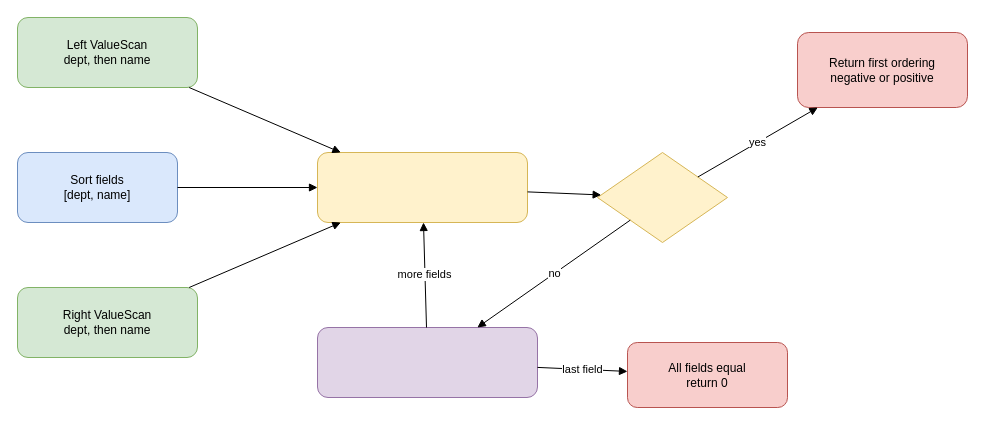
The diagram is 985 pixels wide and 425 high, and some of its shapes have lost their labels. Here are the shapes that lost their labels. From the top down, the centre of each, then its label:
point (422, 187): query.Constant.Compare first field pair
point (662, 197): non-zero?
point (427, 362): Equal: compare next field dept -> name
